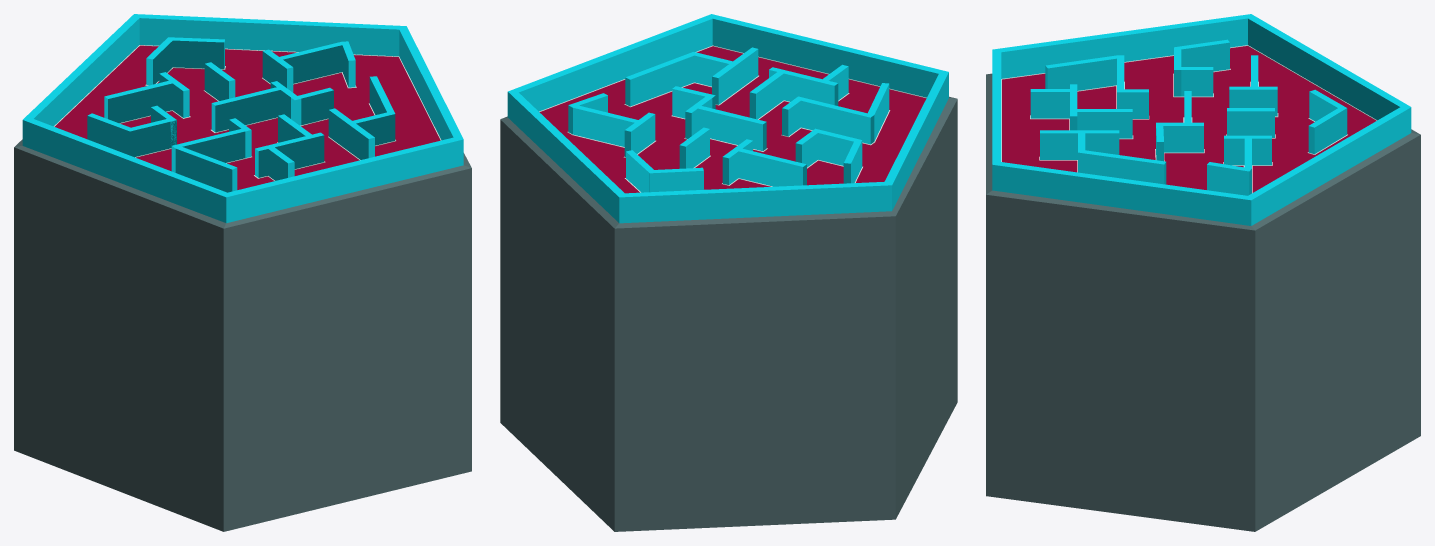
The model's file is Level_28.FBX.
The picture shows the model from 3 angles, left to right: view 1: azimuth 30°, elevation 25°; view 2: azimuth 150°, elevation 25°; view 3: azimuth 270°, elevation 25°; orthographic projection.
Visible parts, largest first — view 1: Level_28; view 2: Level_28; view 3: Level_28.
Boxes of the visible parts, x1=… form: Level_28: x1=14, y1=14, x2=471, y2=531; Level_28: x1=500, y1=14, x2=957, y2=531; Level_28: x1=986, y1=14, x2=1420, y2=531.
Size of the model in its own units: 205 by 164 by 196.
